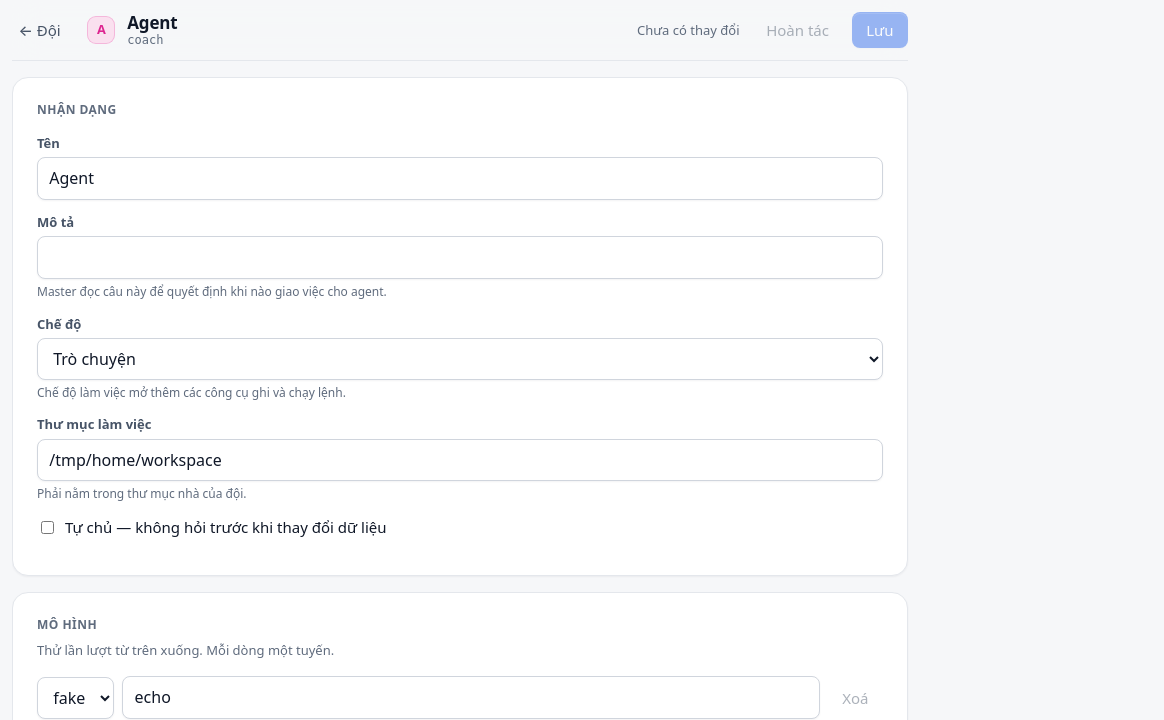
Test case: a change to the mode or to the delegates that is not saved yet › gives way to the rows of the agent the save made, once the save of the mode lands
Select "Làm việc" in the dropdown labelled "Chế độ". click: point(460, 359)
box: [37,338,883,380]
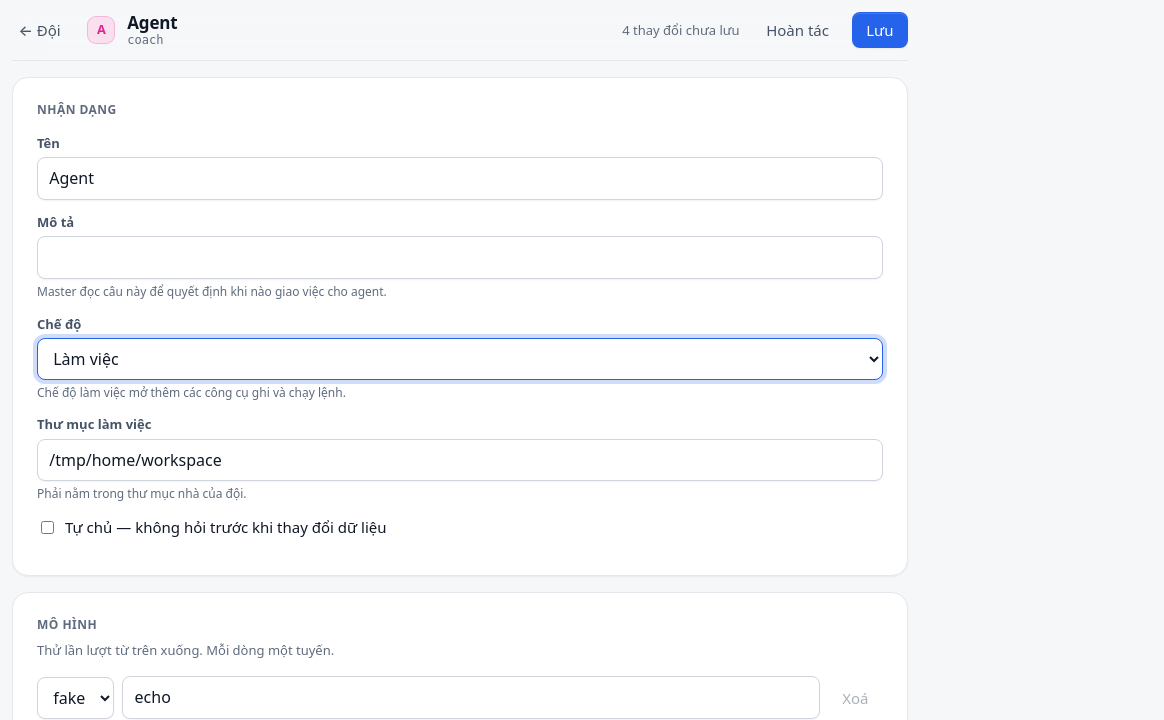
Click the button "Lưu". click: point(880, 30)
box: [852,12,908,48]
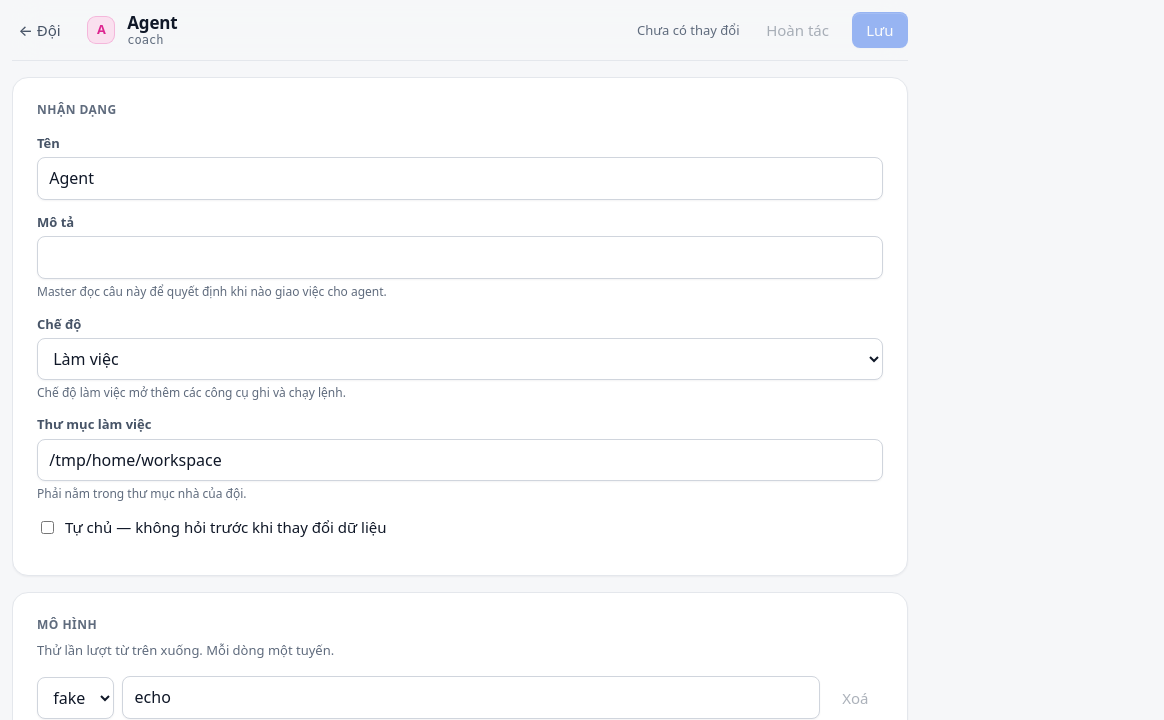
Result: the text "Chưa có thay đổi" is shown at [637,20,740,40]
